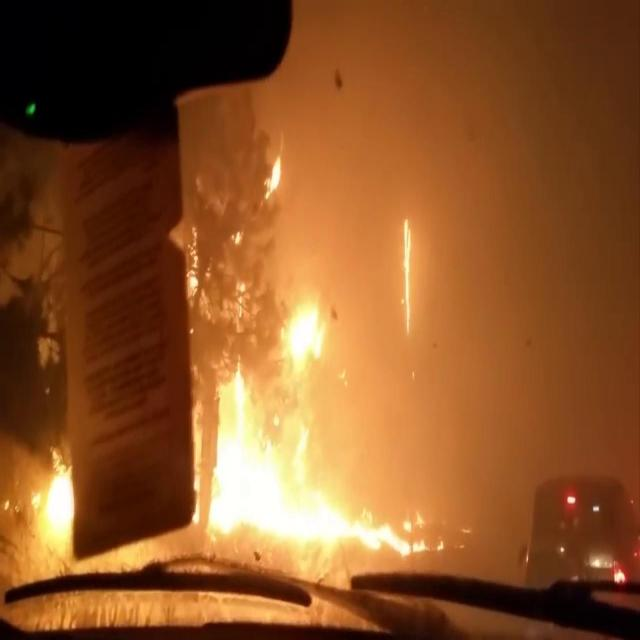Fire: (190, 300, 446, 554), (186, 222, 204, 294), (262, 156, 282, 200)
